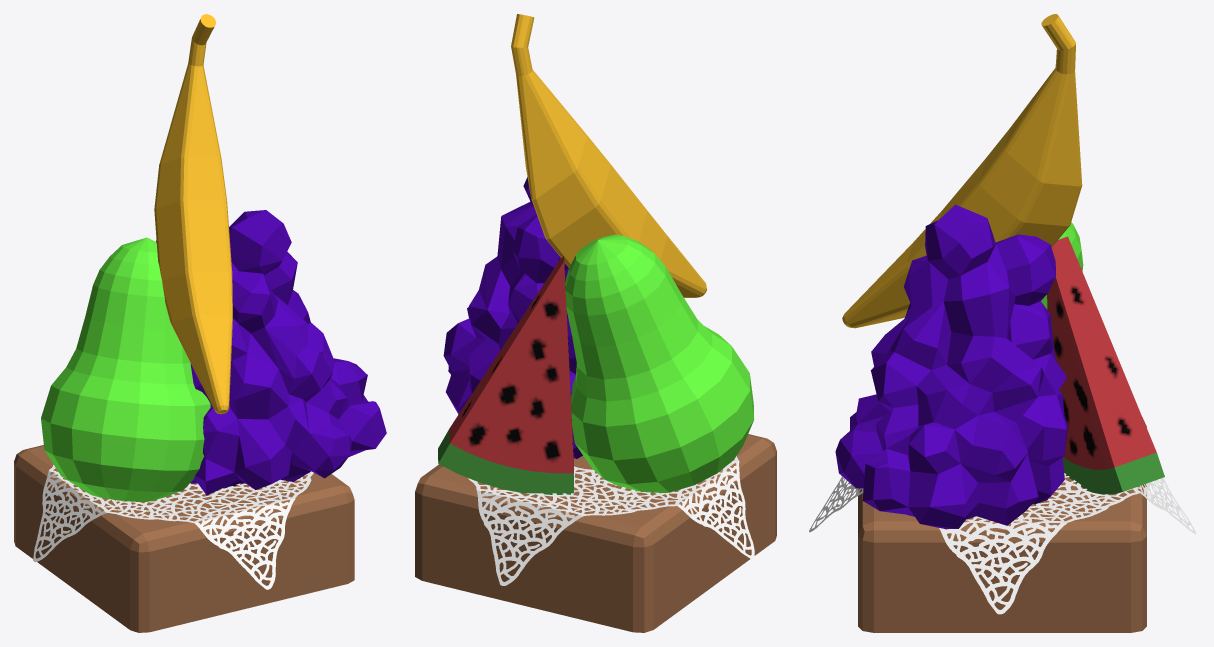
File: FruitPawn.fbx
3 renders of one model, left to right at view 1: azimuth 30°, elevation 25°; view 2: azimuth 150°, elevation 25°; view 3: azimuth 270°, elevation 25°, orthographic. The views are drawn at different scales.
Visible parts, largest first — view 1: FruitPawn; view 2: FruitPawn; view 3: FruitPawn.
Boxes of the visible parts, x1=… form: FruitPawn: x1=14, y1=14, x2=386, y2=632; FruitPawn: x1=415, y1=14, x2=776, y2=632; FruitPawn: x1=809, y1=14, x2=1195, y2=632.
Size of the model in its own units: 101 by 161 by 98.99.
